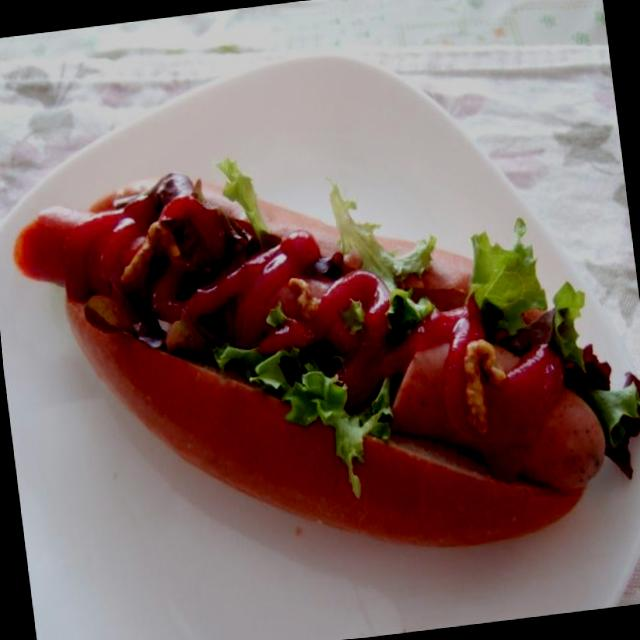Hot Dog: (0, 106, 640, 605)
